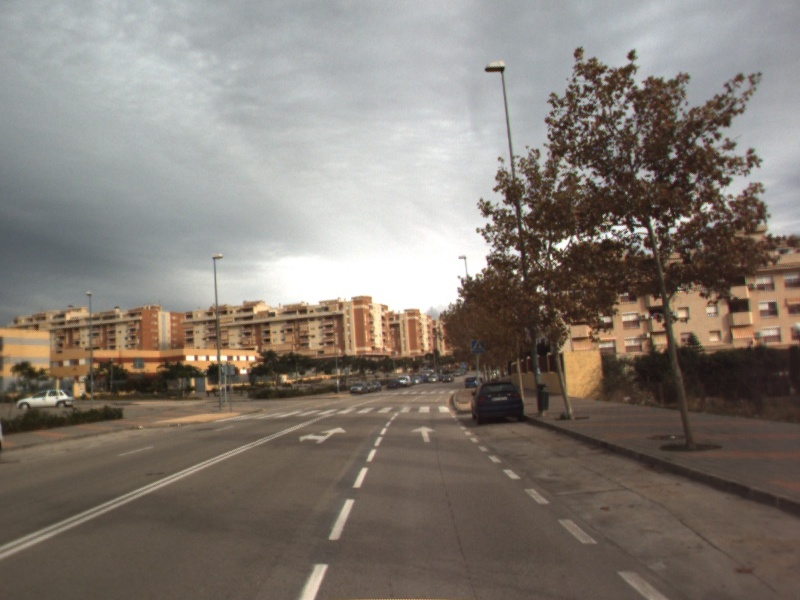STRAIGHT: (409, 423, 439, 444)
STRAIGHT_LEFT: (297, 425, 348, 446)
